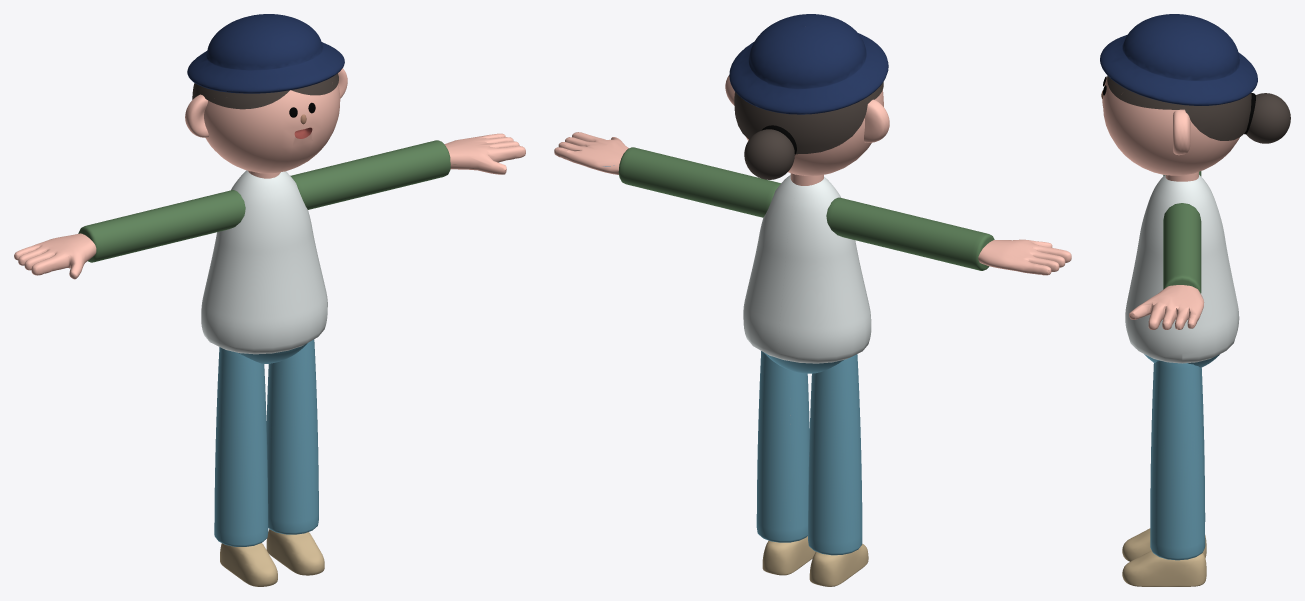
File: GIRL_DEV.fbx
3 views of the same model, side by side, from view 1: azimuth 30°, elevation 25°; view 2: azimuth 150°, elevation 25°; view 3: azimuth 270°, elevation 25° (orthographic).
Parts seen in each view (by area): view 1: Girl_1; view 2: Girl_1; view 3: Girl_1.
Boxes of the visible parts, <box> form: Girl_1: <box>14,14,525,586</box>; Girl_1: <box>554,14,1071,586</box>; Girl_1: <box>1100,14,1290,586</box>.
Bounding box in the file's own units: 137 × 143 × 45.2.
Materials: 1 (1 with a texture image).
